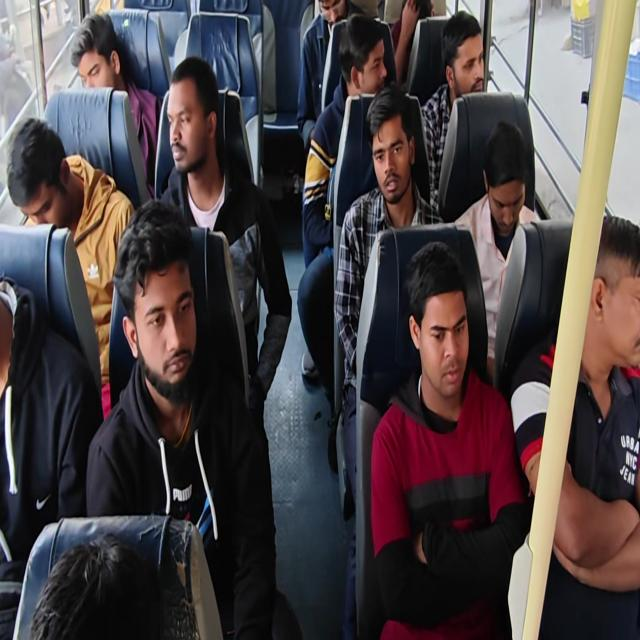person: (113, 200, 206, 398), (32, 533, 194, 640), (399, 238, 481, 420), (565, 207, 640, 383), (3, 114, 84, 248), (470, 115, 540, 236), (431, 13, 500, 130), (335, 10, 407, 116), (160, 52, 219, 181), (362, 89, 420, 219), (70, 5, 126, 87), (311, 0, 365, 59), (400, 0, 442, 32), (0, 270, 12, 372)
